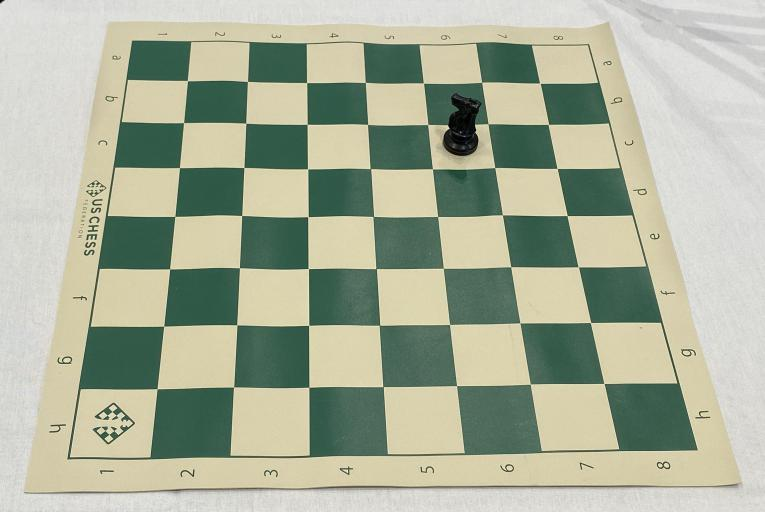black-knight: (443, 93, 483, 159)
